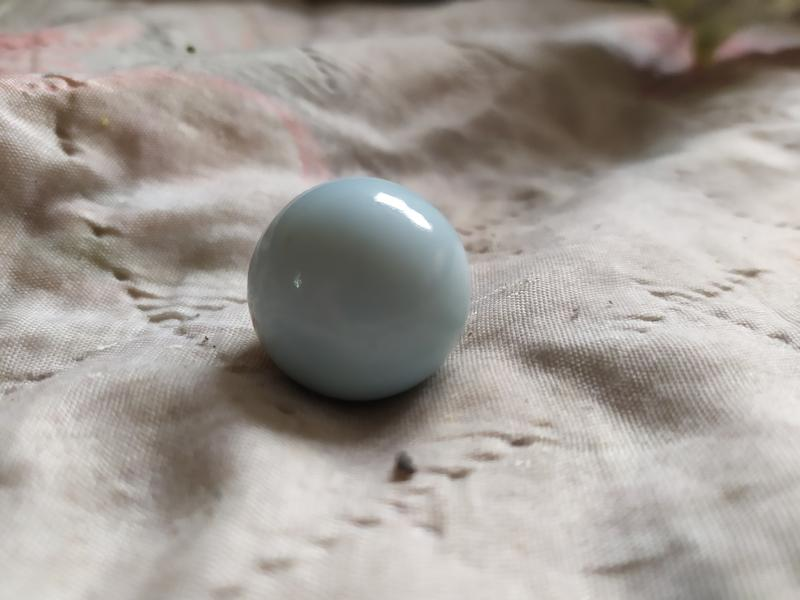Warning: (241, 170, 477, 409)
